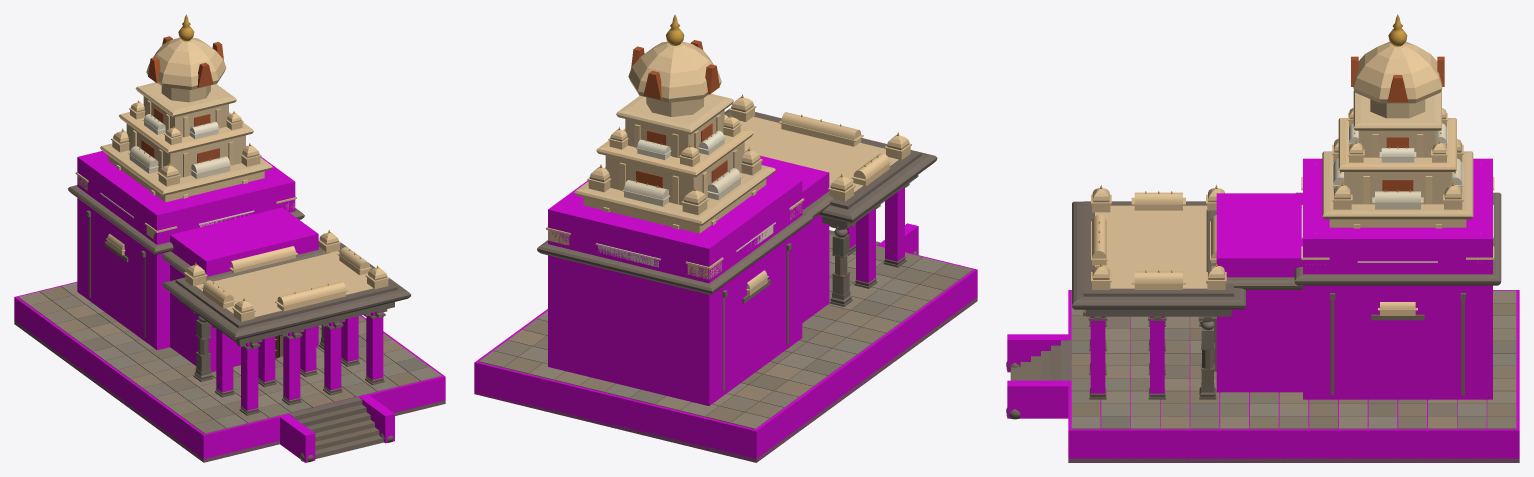
File: ENV_Temple_Main_A.glb
3 views of the same model, side by side, from view 1: azimuth 30°, elevation 25°; view 2: azimuth 150°, elevation 25°; view 3: azimuth 270°, elevation 25° (orthographic). The views are drawn at different scales.
Parts seen in each view (by area): view 1: ENV_Temple_Main_A_Mesh, COL_Sanctum, ENV_Temple_Main_A_Paving, WALK_Plinth, COL_Ardha, COL_Balustrade_-1, COL_PorchPillar_0.95_-6.6, COL_PorchPillar_2.9_-6.6, COL_PorchPillar_-2.9_-6.6, COL_PorchPillar_-0.95_-6.6, COL_PorchPillar_-2.9_-4.6, COL_Balustrade_1 (+3 smaller); view 2: ENV_Temple_Main_A_Mesh, COL_Sanctum, ENV_Temple_Main_A_Paving, WALK_Plinth, COL_Ardha, COL_PorchPillar_-2.9_-6.6, COL_PorchPillar_-2.9_-4.6; view 3: ENV_Temple_Main_A_Mesh, COL_Sanctum, ENV_Temple_Main_A_Paving, WALK_Plinth, COL_Ardha, COL_Balustrade_1, COL_Balustrade_-1, COL_PorchPillar_2.9_-6.6, COL_PorchPillar_2.9_-4.6.
Boxes of the visible parts, x1,y1,x2,y2 form: ENV_Temple_Main_A_Mesh: (14, 14, 445, 462); COL_Sanctum: (77, 146, 295, 350); ENV_Temple_Main_A_Paving: (18, 282, 441, 433); WALK_Plinth: (14, 281, 445, 462); COL_Ardha: (170, 207, 318, 372); COL_Balustrade_-1: (279, 414, 315, 462); COL_PorchPillar_0.95_-6.6: (324, 320, 341, 390); COL_PorchPillar_2.9_-6.6: (366, 310, 383, 379); COL_PorchPillar_-2.9_-6.6: (241, 340, 258, 410); COL_PorchPillar_-0.95_-6.6: (283, 330, 300, 400); COL_PorchPillar_-2.9_-4.6: (216, 328, 233, 392); COL_Balustrade_1: (360, 394, 394, 443); ENV_Temple_Main_A_Mesh: (474, 14, 977, 462); COL_Sanctum: (548, 167, 802, 405); ENV_Temple_Main_A_Paving: (479, 234, 972, 429); WALK_Plinth: (474, 245, 977, 461); COL_Ardha: (760, 155, 829, 322); COL_PorchPillar_-2.9_-6.6: (885, 187, 904, 261); COL_PorchPillar_-2.9_-4.6: (856, 208, 875, 282); ENV_Temple_Main_A_Mesh: (1006, 14, 1519, 462); COL_Sanctum: (1303, 158, 1492, 400); ENV_Temple_Main_A_Paving: (1071, 290, 1516, 429); WALK_Plinth: (1068, 290, 1519, 462); COL_Ardha: (1216, 193, 1302, 392); COL_Balustrade_1: (1007, 380, 1071, 418); COL_Balustrade_-1: (1007, 334, 1070, 372); COL_PorchPillar_2.9_-6.6: (1090, 316, 1105, 393); COL_PorchPillar_2.9_-4.6: (1150, 316, 1164, 393).
Bounding box in the file's own units: 11.2 × 14.07 × 17.29.
